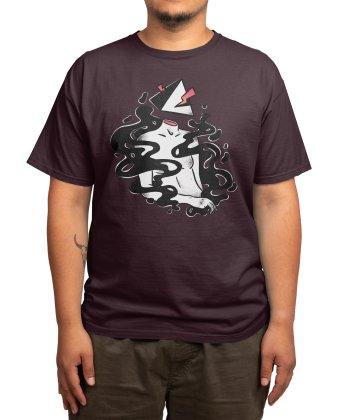design: (106, 76, 240, 219)
